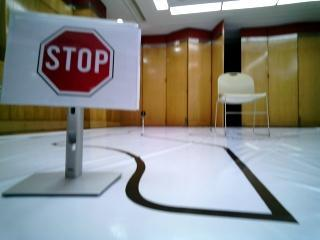stop: (20, 21, 130, 100)
